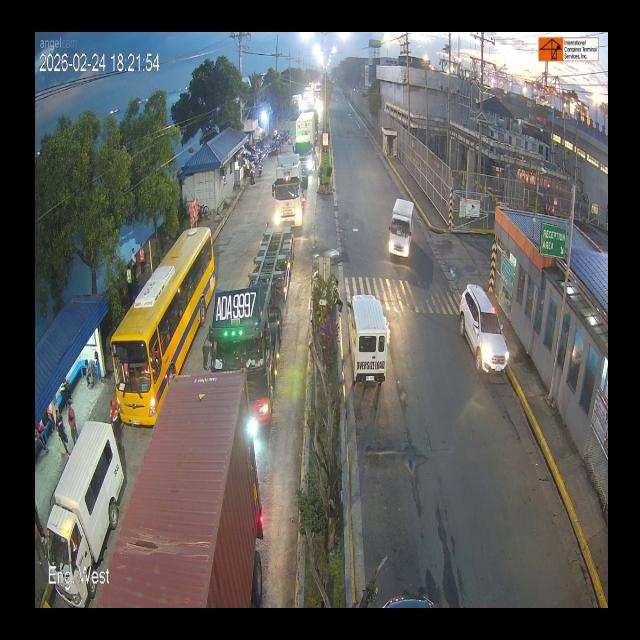bus: (110, 221, 221, 428)
car: (46, 433, 122, 567), (452, 280, 512, 396), (342, 284, 391, 400)
truck: (96, 363, 269, 606), (202, 231, 302, 443), (381, 182, 419, 266), (273, 152, 310, 236), (294, 108, 318, 169)
